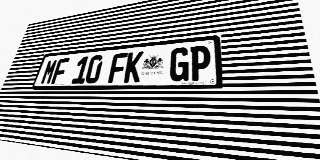0: (84, 55, 104, 84)
1: (71, 56, 91, 84)
F: (108, 52, 128, 83), (51, 58, 70, 84)
G: (169, 47, 190, 81)
K: (123, 51, 144, 83)
M: (40, 59, 59, 85)
P: (189, 45, 211, 81)
